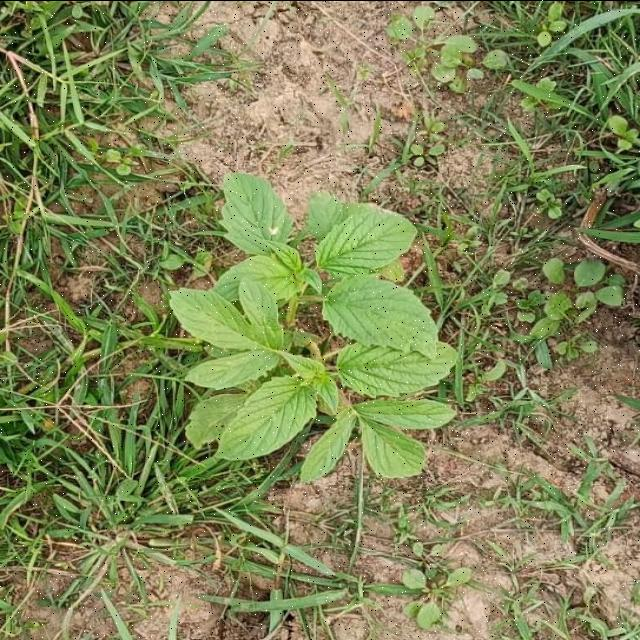plant: (170, 172, 457, 480)
